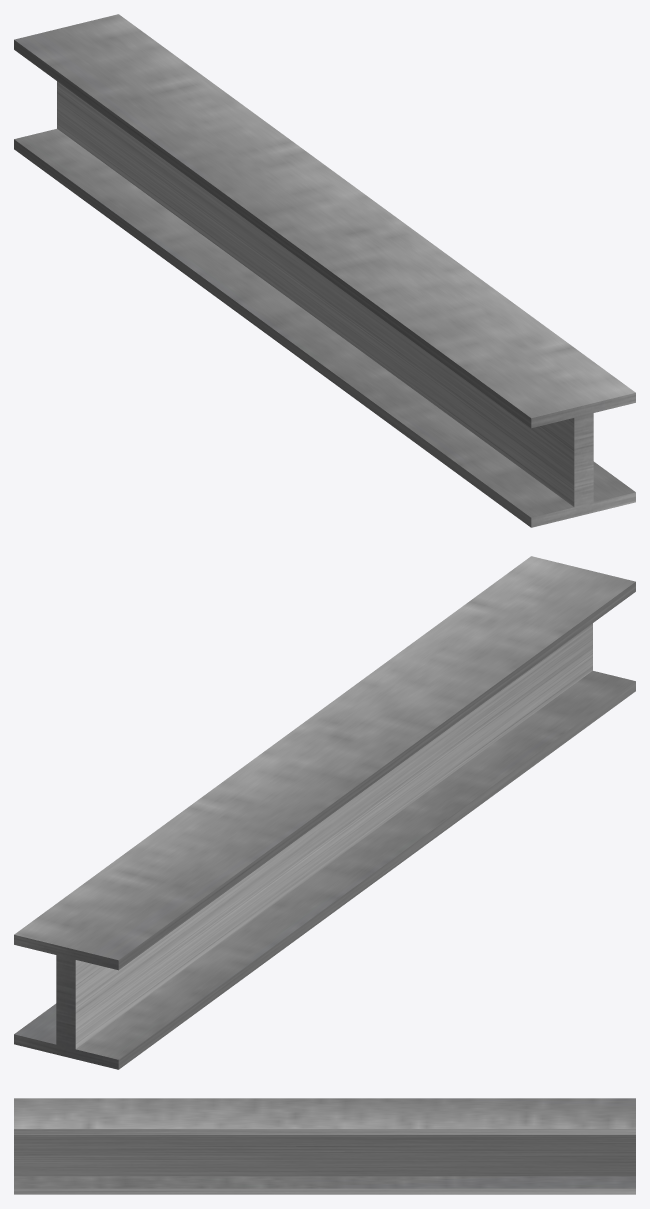
The model's file is metal.fbx.
3 renders of one model, top to bottom at view 1: azimuth 30°, elevation 25°; view 2: azimuth 150°, elevation 25°; view 3: azimuth 270°, elevation 25°, orthographic. The views are drawn at different scales.
Parts seen in each view (by area): view 1: pCube6; view 2: pCube6; view 3: pCube6.
Part boxes in pixels (x1,y1,x2,y2): pCube6: [14, 14, 635, 527]; pCube6: [14, 556, 635, 1069]; pCube6: [14, 1098, 635, 1194].
Bounding box in the file's own units: 1 × 1 × 8.56.
